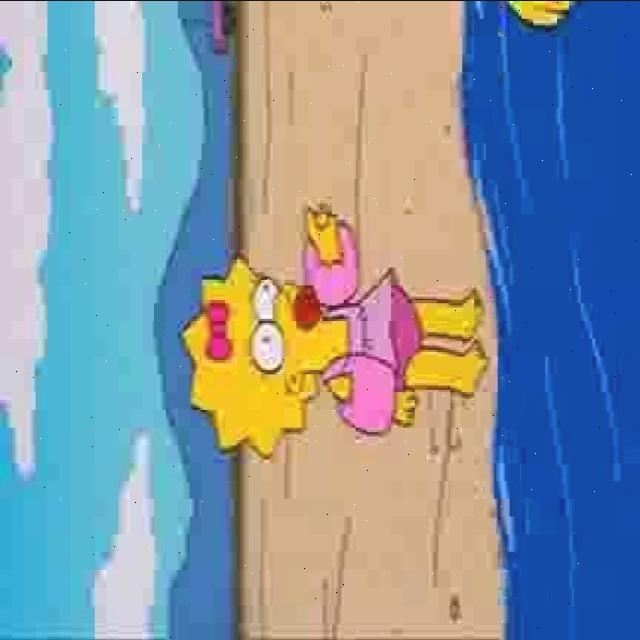Maggie Simpson: (180, 253, 336, 467)
